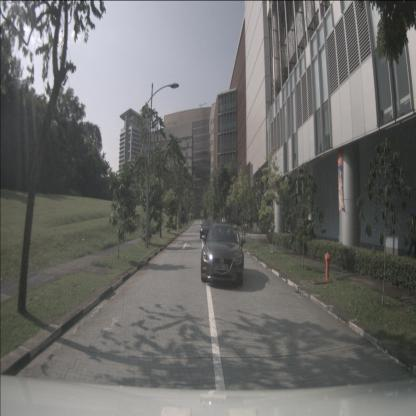human-pedestrian-adult: (407, 212, 416, 260)
vehicle-car: (201, 223, 244, 286), (200, 220, 215, 240)
